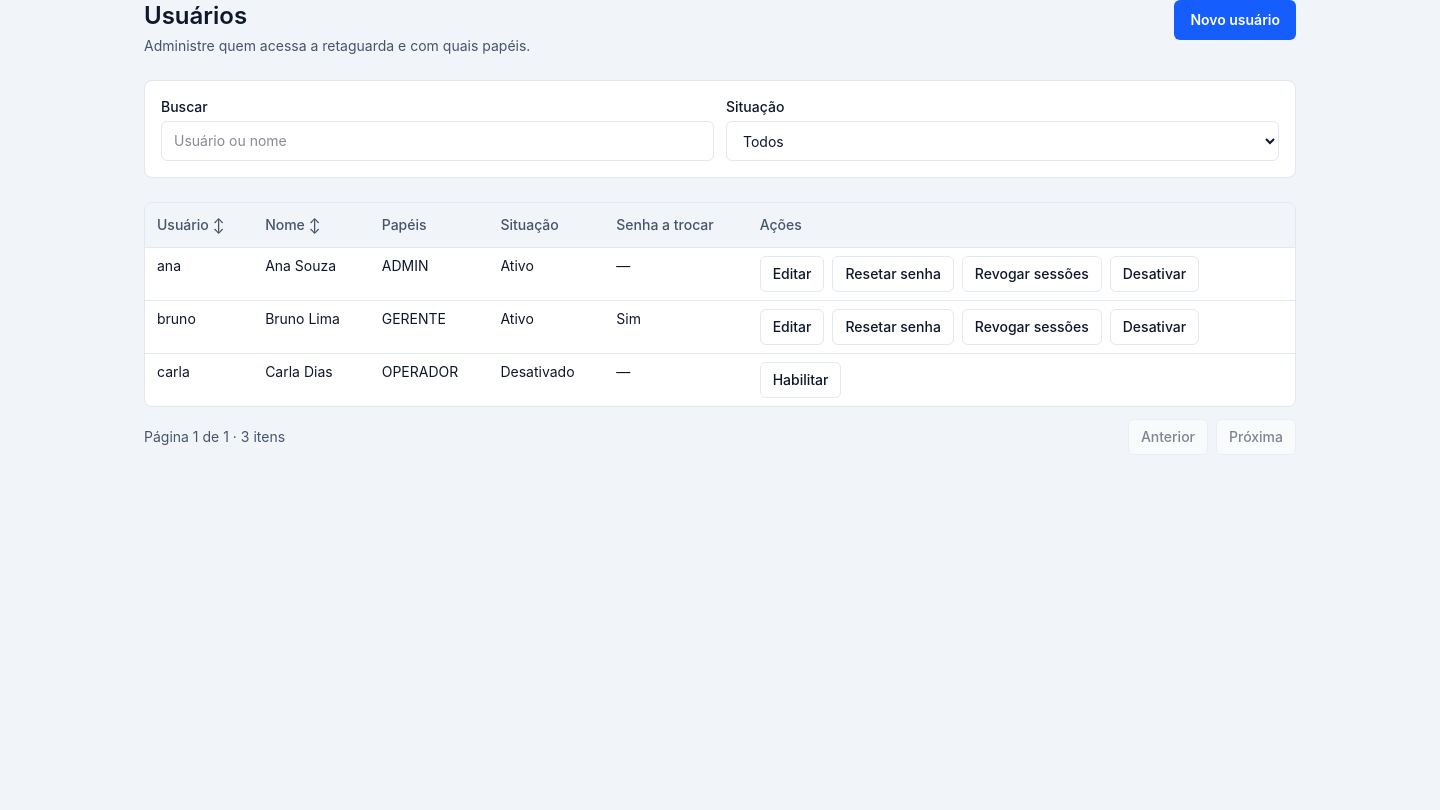
UsersPage — criação › bloqueia senha com menos de 8 caracteres, sem sair da tela
Expected: the cell "ana" is shown, [145,248,253,300]
Click the button "Novo usuário" at (1235, 20), box [1174,0,1296,40]
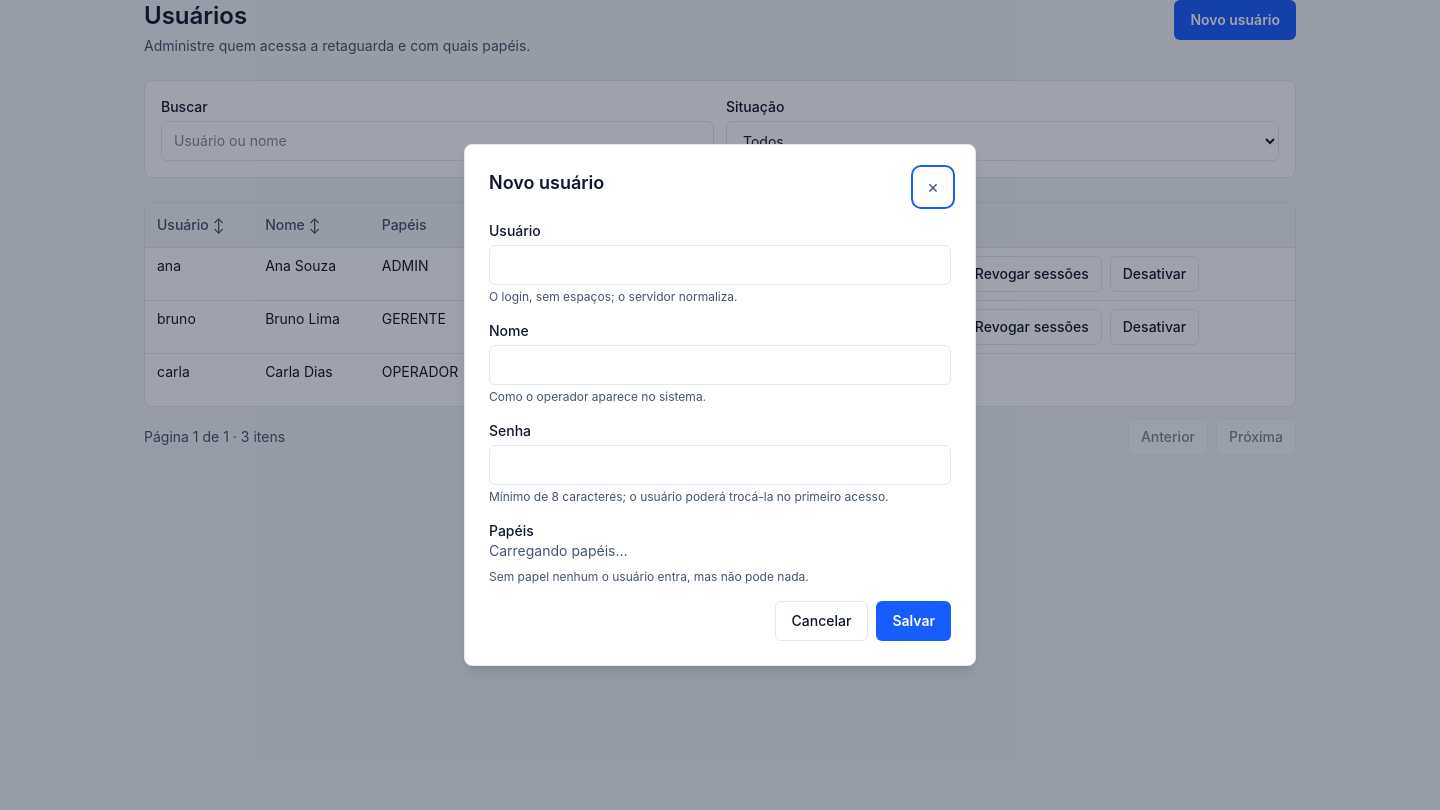
Type "diego" into the field labelled "Usuário" at (720, 265), box [489,245,951,285]
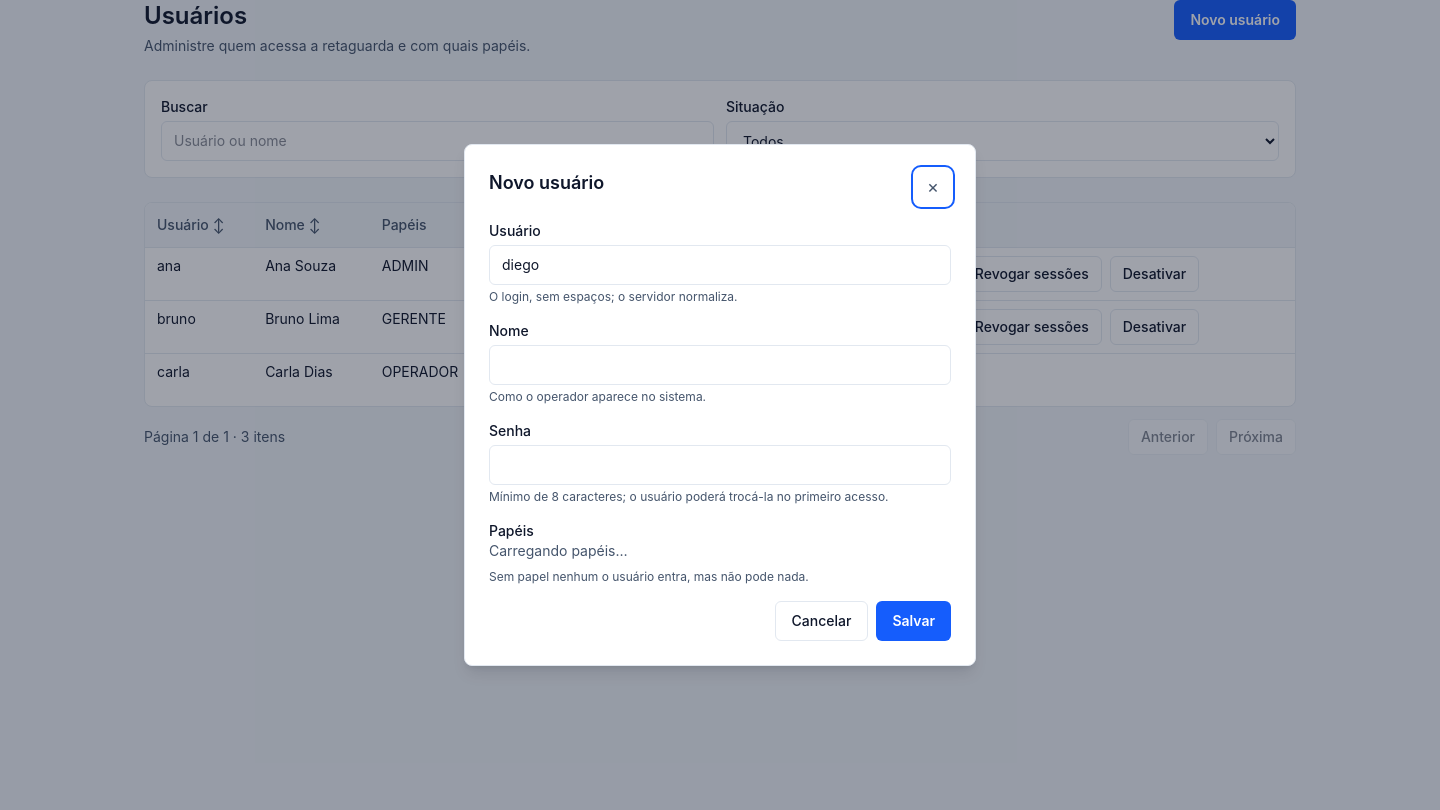
Type "Diego Alves" into the field labelled "Nome" at (720, 365), box [489,345,951,385]
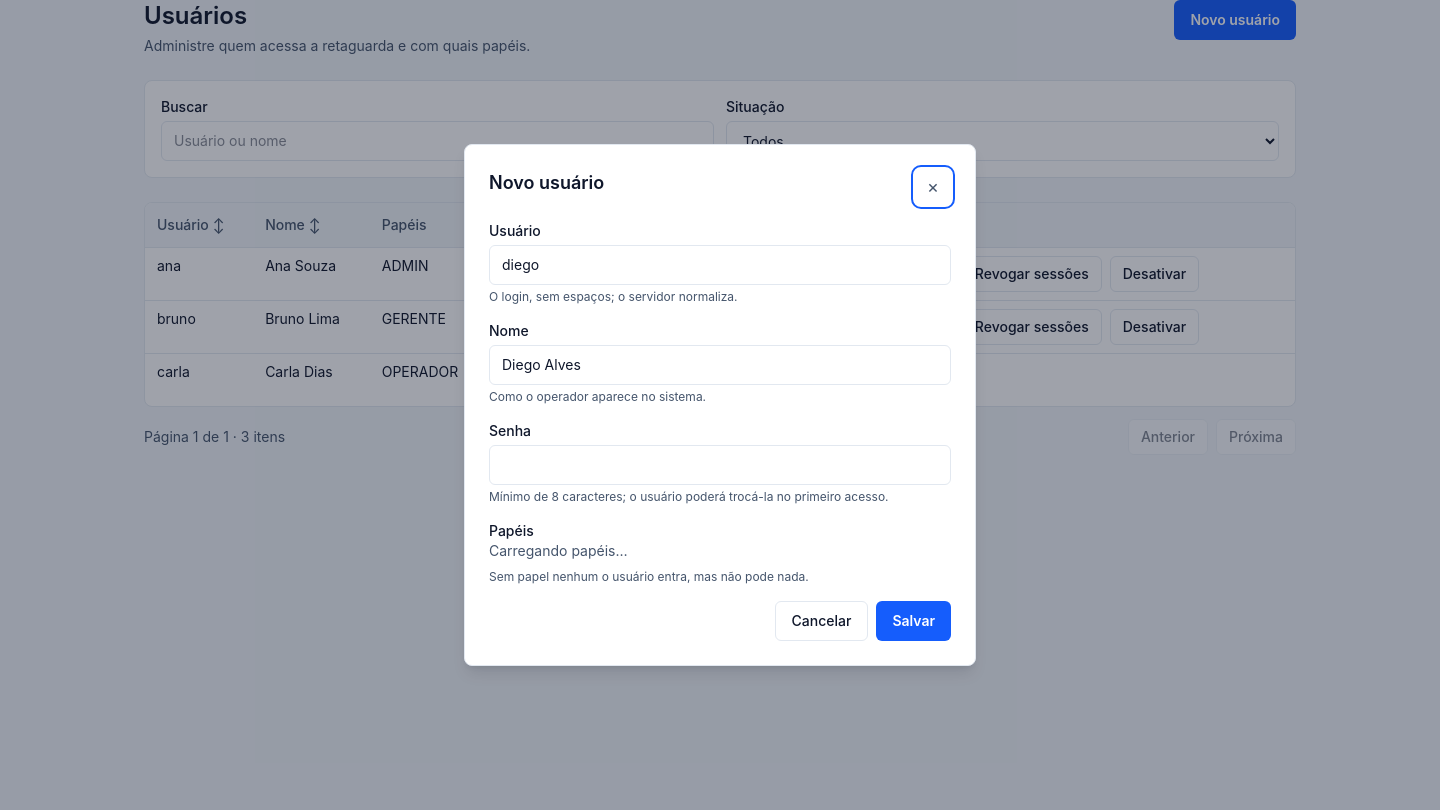
Type "1234567" into the password field labelled "Senha" at (720, 465), box [489,445,951,485]
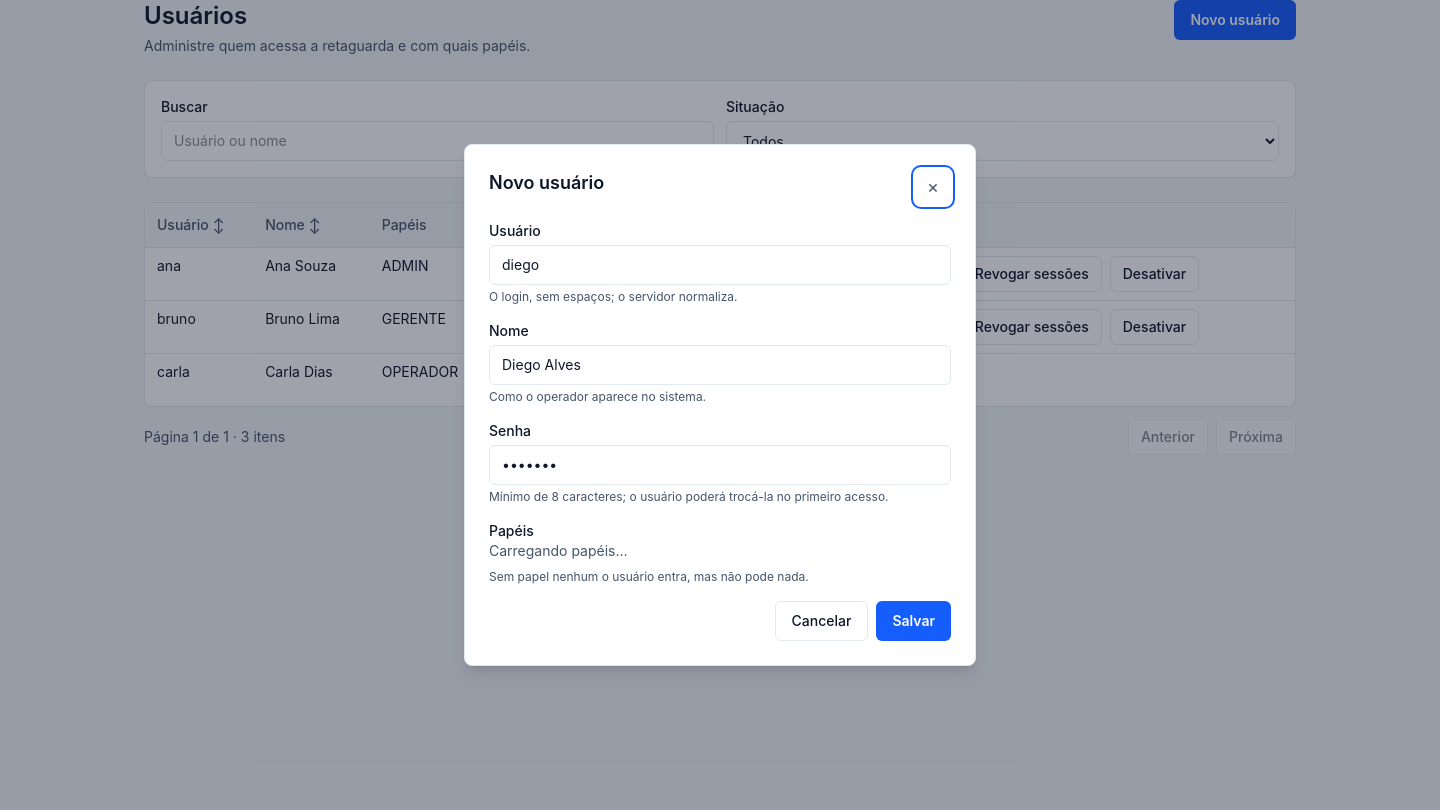
Click the button "Salvar" at (914, 621), box [876,601,951,641]
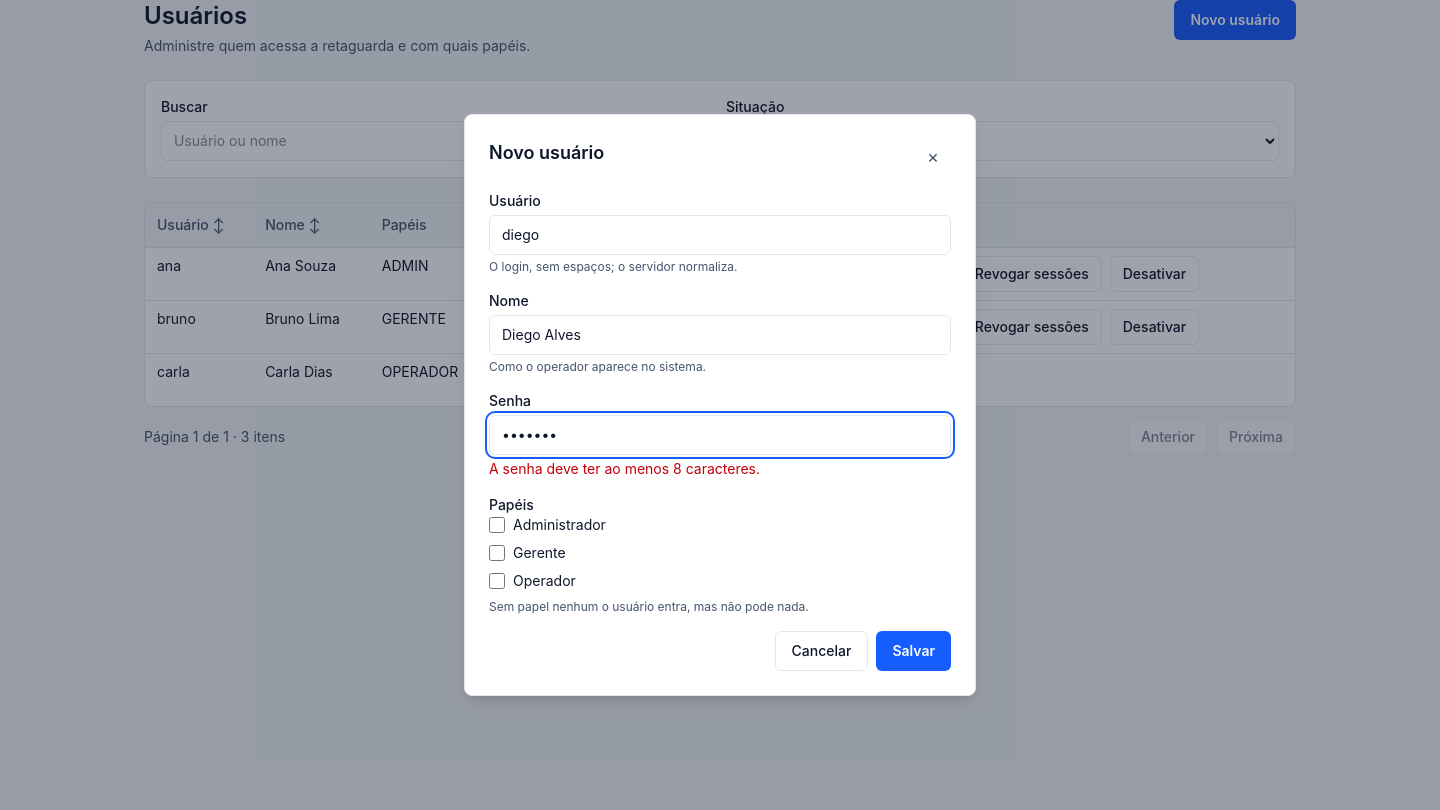
Result: the text "A senha deve ter ao menos 8 caracteres." is shown at [489,460,760,477]
